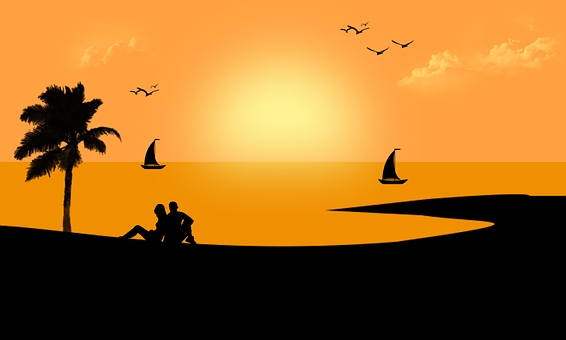sea: (6, 139, 565, 340)
sky: (3, 5, 560, 140)
tree: (18, 86, 115, 233)
